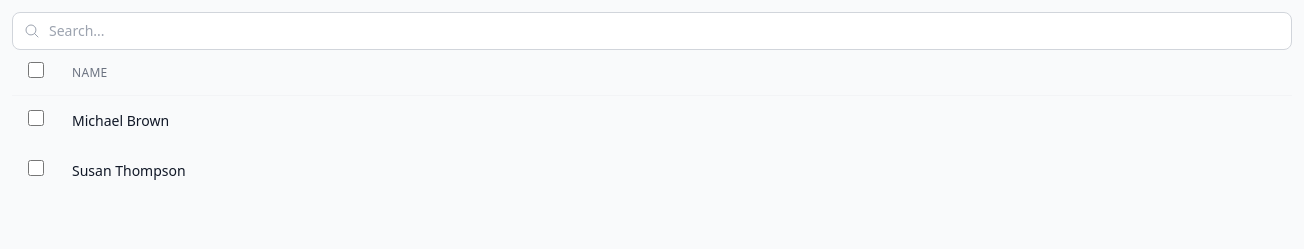
Test: Customers page selection › keeps a row selected after the search debounce window elapses
What coordinates should you click on to do the following:
click the checkbox next to "Michael Brown"
I would click on:
 (36, 118)
Its box is [28, 110, 44, 126].
Wait 500 ms
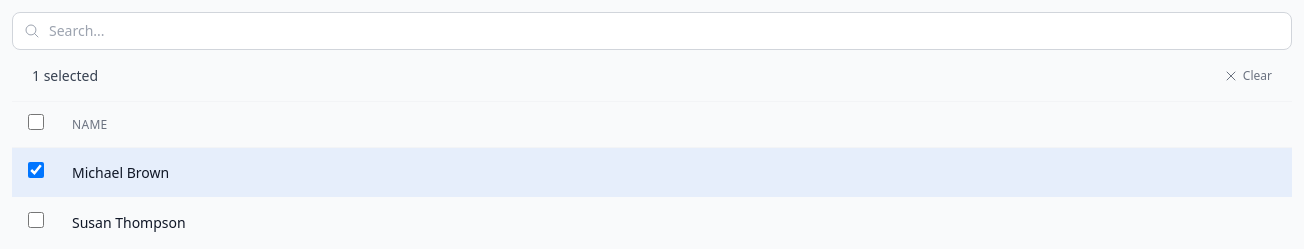
Now the checkbox next to "Michael Brown" is checked, box [28, 162, 44, 178]
Now the text "1 selected" is shown, box [32, 66, 98, 86]
